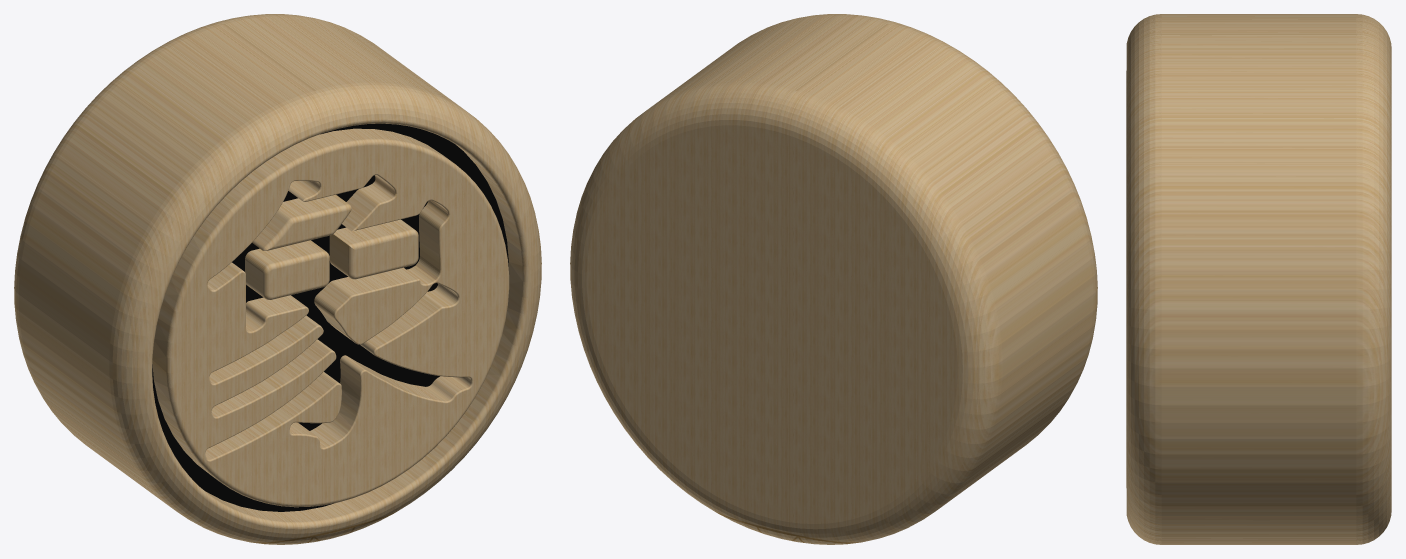
The model's file is h01_chess_black_elephant.obj.
The picture shows the model from 3 angles, left to right: view 1: azimuth 30°, elevation 25°; view 2: azimuth 150°, elevation 25°; view 3: azimuth 270°, elevation 25°; orthographic projection. The views are drawn at different scales.
Size of the model in its own units: 0.03 by 0.03 by 0.015.
2 materials, 1 textured.
